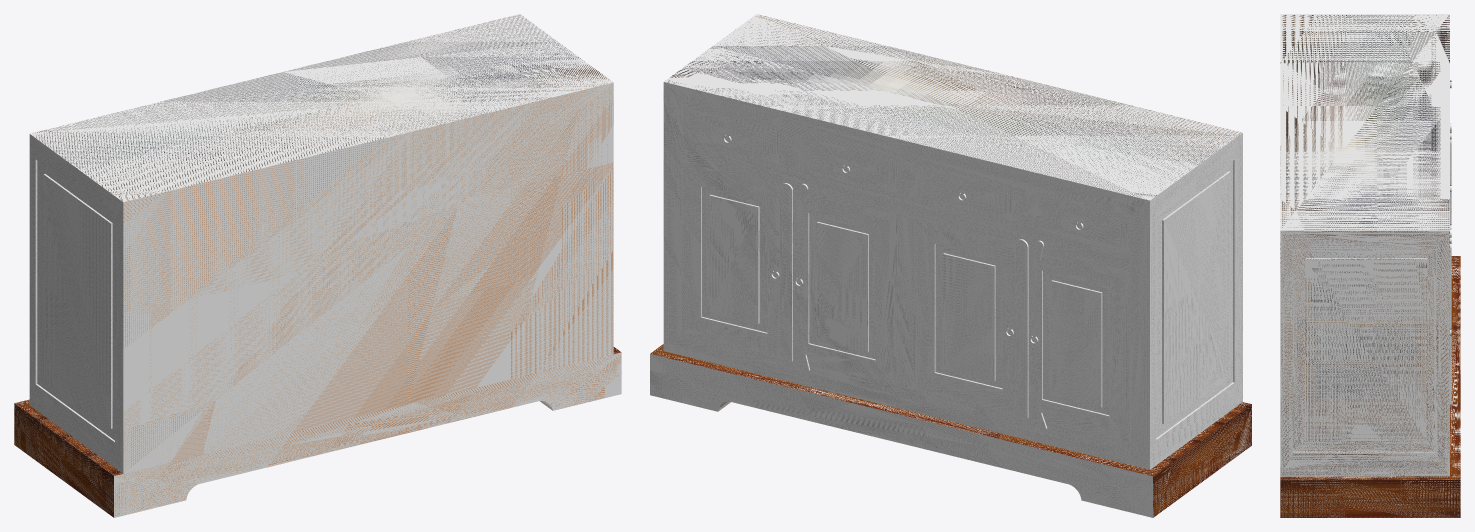
3 renders of one model, left to right at view 1: azimuth 30°, elevation 25°; view 2: azimuth 150°, elevation 25°; view 3: azimuth 270°, elevation 25°, orthographic. The views are drawn at different scales.
Visible parts, largest first — view 1: mesh1_mesh1-geometry; view 2: mesh1_mesh1-geometry; view 3: mesh1_mesh1-geometry.
Boxes of the visible parts, <box> form: mesh1_mesh1-geometry: <box>14,14,621,517</box>; mesh1_mesh1-geometry: <box>650,14,1251,517</box>; mesh1_mesh1-geometry: <box>1280,14,1460,517</box>.
Bounding box in the file's own units: 0.8264 × 0.4878 × 0.2812.
